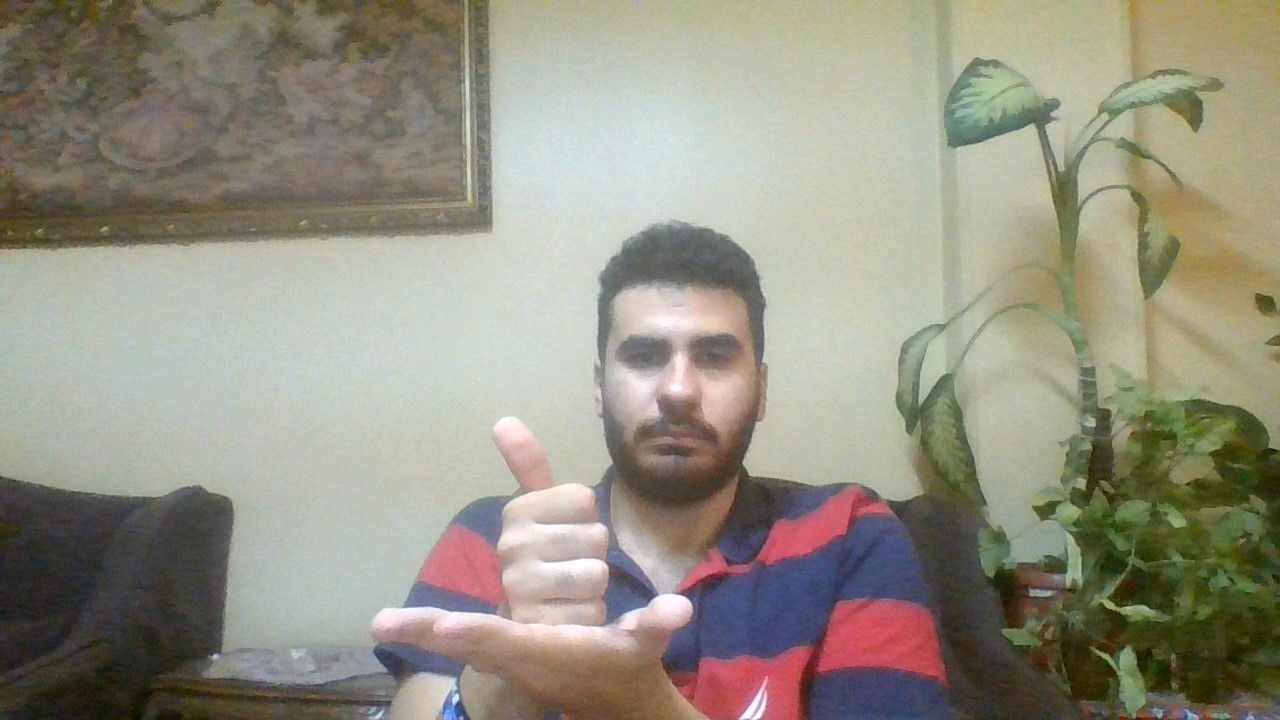help: (358, 408, 692, 694)
